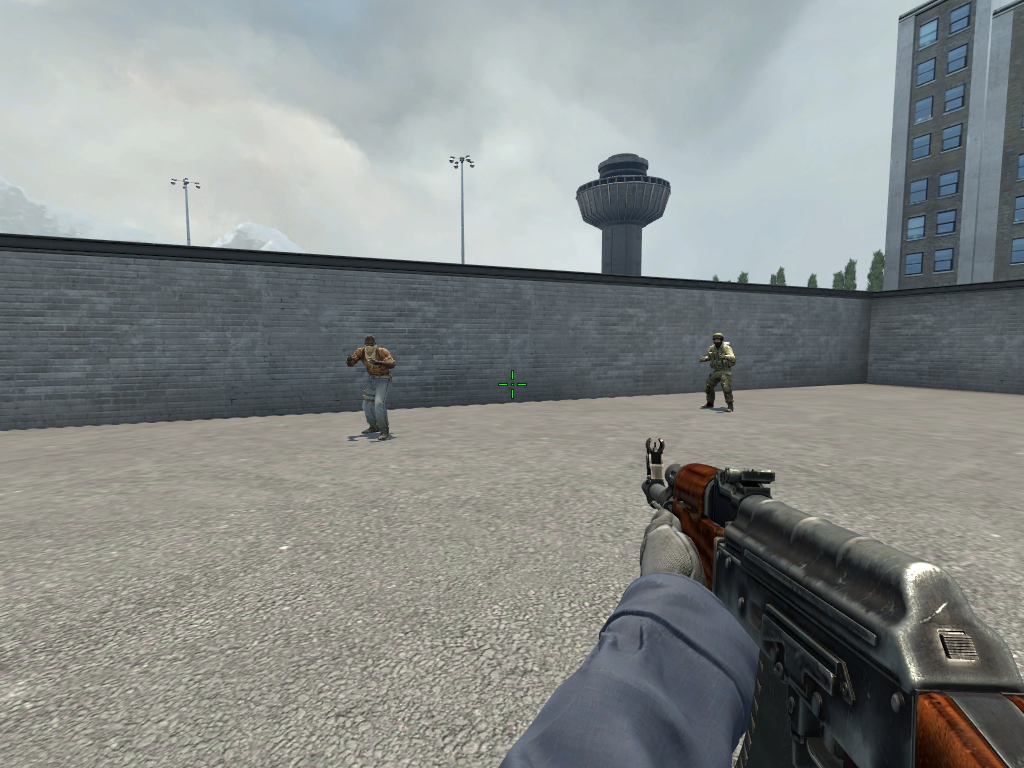ct head: (712, 333, 722, 346)
tr head: (365, 337, 375, 353)
